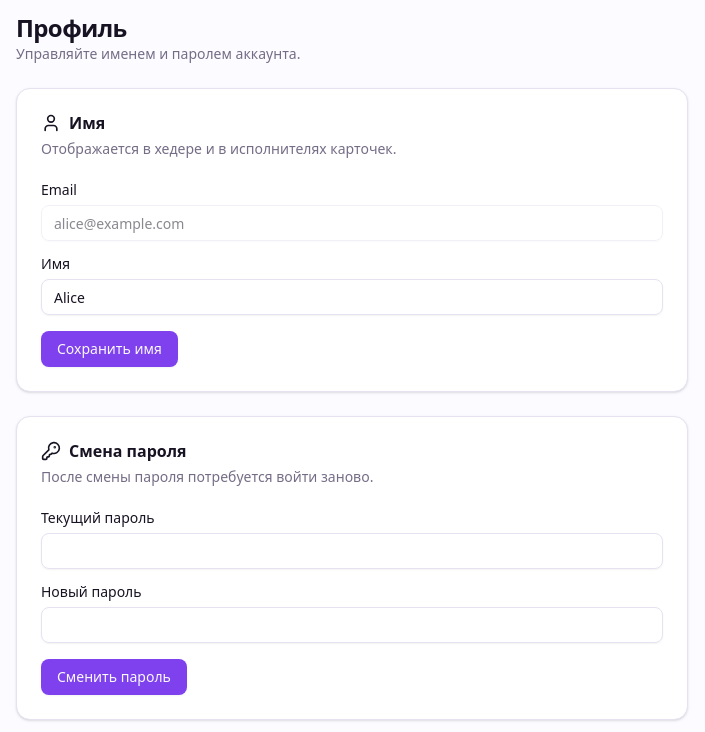
Scenario: ProfilePage › shows an error when the current password is wrong
Step 1. Type "wrong-password" into the password field labelled "Текущий пароль" → coordinates (352, 551), box [41,533,663,569]
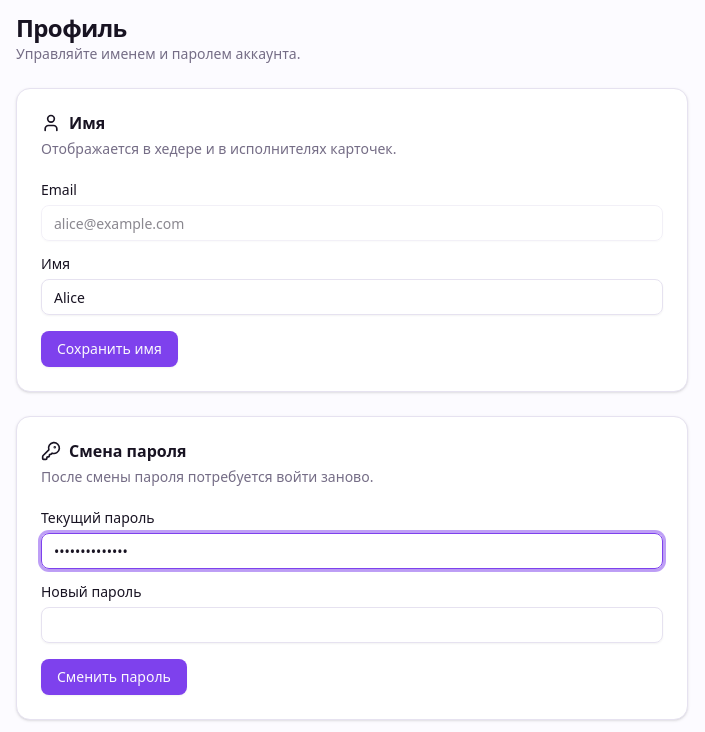
Step 2. Type "newpassword123" into the password field labelled "Новый пароль" → coordinates (352, 625), box [41,607,663,643]
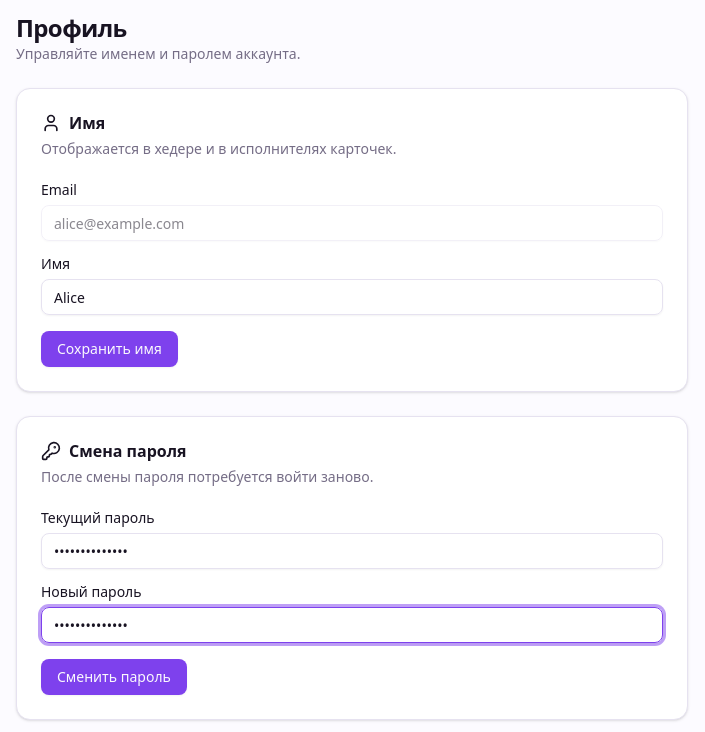
Step 3. Click the button "Сменить пароль" → coordinates (114, 677), box [41,659,187,695]
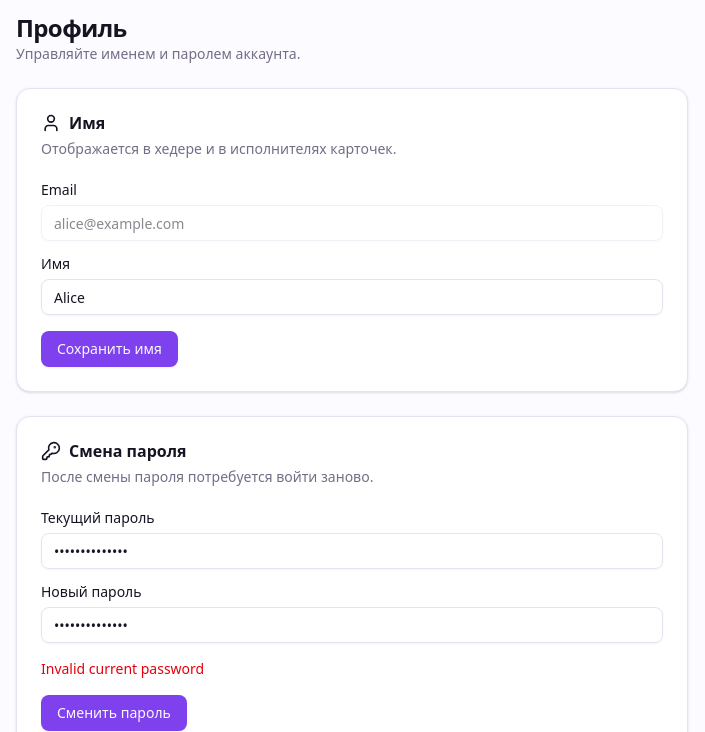
Now the message reads "Invalid current password", box [41,659,204,678]
